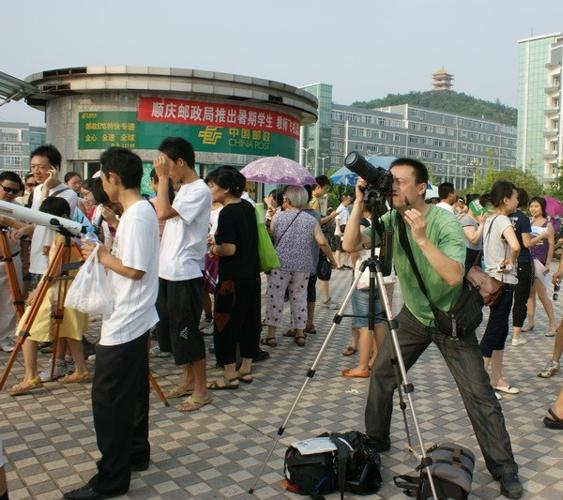person: (342, 158, 523, 497)
